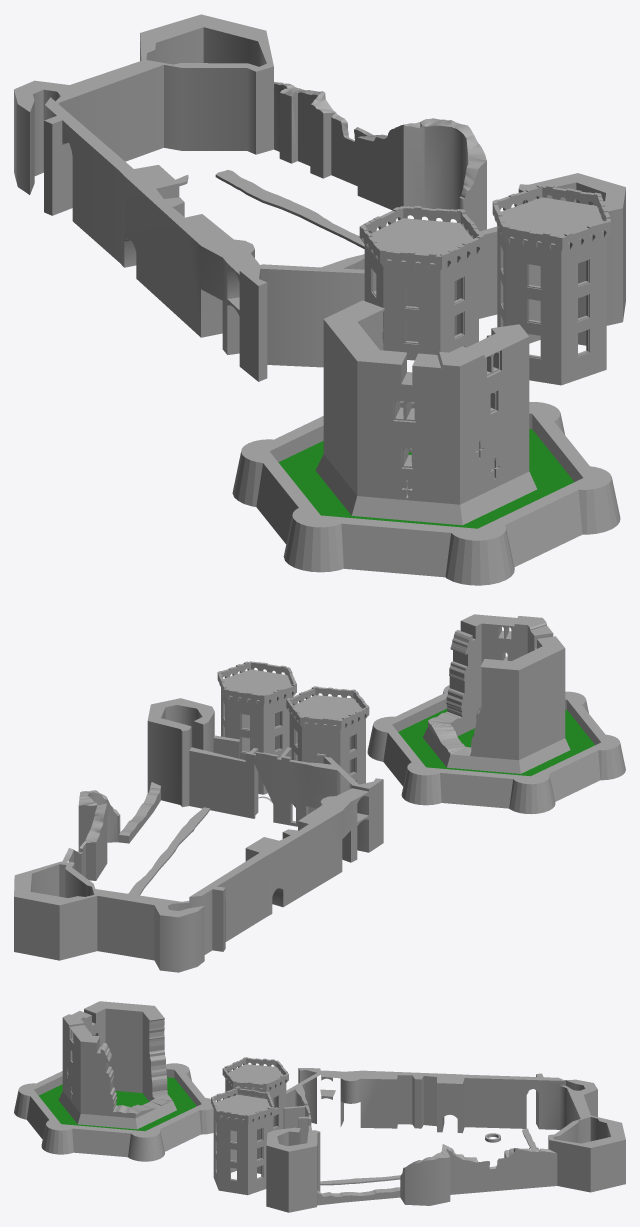
Rendered from raglan-castle-v2.gltf.
3 renders of one model, top to bottom at view 1: azimuth 30°, elevation 25°; view 2: azimuth 150°, elevation 25°; view 3: azimuth 270°, elevation 25°, orthographic. The views are drawn at different scales.
Visible parts, largest first — view 1: Main Courtyard - Assembly, Great Tower - Main#1, Great Tower - Base, Main Courtyard - Tower.stl (×2), Main Courtyard - Tower Crown.stl (×2); view 2: Main Courtyard - Assembly, Great Tower - Main#1, Great Tower - Base, Main Courtyard - Tower.stl (×2), Main Courtyard - Tower Crown.stl (×2); view 3: Main Courtyard - Assembly, Great Tower - Main#1, Great Tower - Base, Main Courtyard - Tower.stl (×2), Main Courtyard - Tower Crown.stl (×2).
Boxes of the visible parts, <box> form: Main Courtyard - Assembly: <box>14,14,625,381</box>; Great Tower - Main#1: <box>315,300,537,525</box>; Great Tower - Base: <box>232,401,620,585</box>; Main Courtyard - Tower.stl (×2): <box>364,197,606,385</box>; Main Courtyard - Tower Crown.stl (×2): <box>359,184,611,271</box>; Main Courtyard - Assembly: <box>14,698,383,972</box>; Great Tower - Main#1: <box>423,614,570,773</box>; Great Tower - Base: <box>367,685,625,814</box>; Main Courtyard - Tower.stl (×2): <box>221,669,365,813</box>; Main Courtyard - Tower Crown.stl (×2): <box>217,661,369,730</box>; Main Courtyard - Assembly: <box>266,1068,625,1212</box>; Great Tower - Main#1: <box>58,1001,176,1129</box>; Great Tower - Base: <box>14,1063,215,1161</box>; Main Courtyard - Tower.stl (×2): <box>213,1064,286,1195</box>; Main Courtyard - Tower Crown.stl (×2): <box>211,1057,288,1123</box>.
Size of the model in its own units: 0.2746 by 0.0911 by 0.5203.
